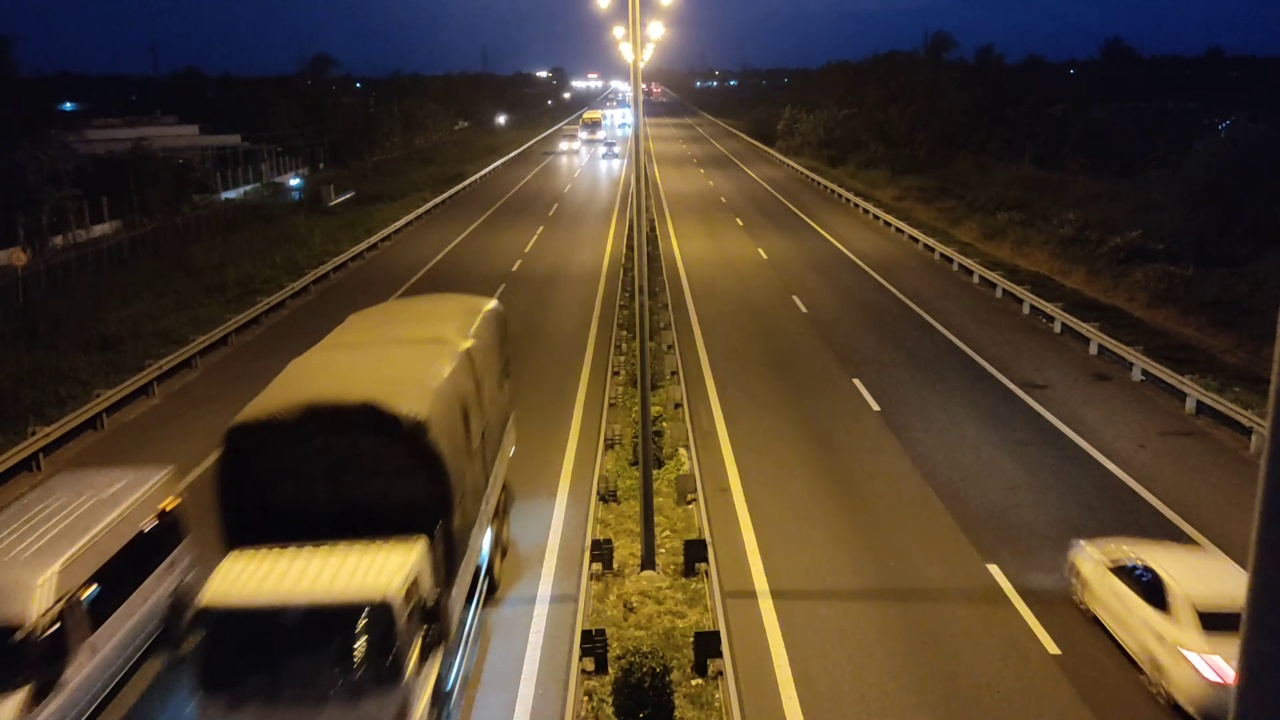car: (1064, 535, 1246, 719)
truck: (129, 287, 519, 715)
